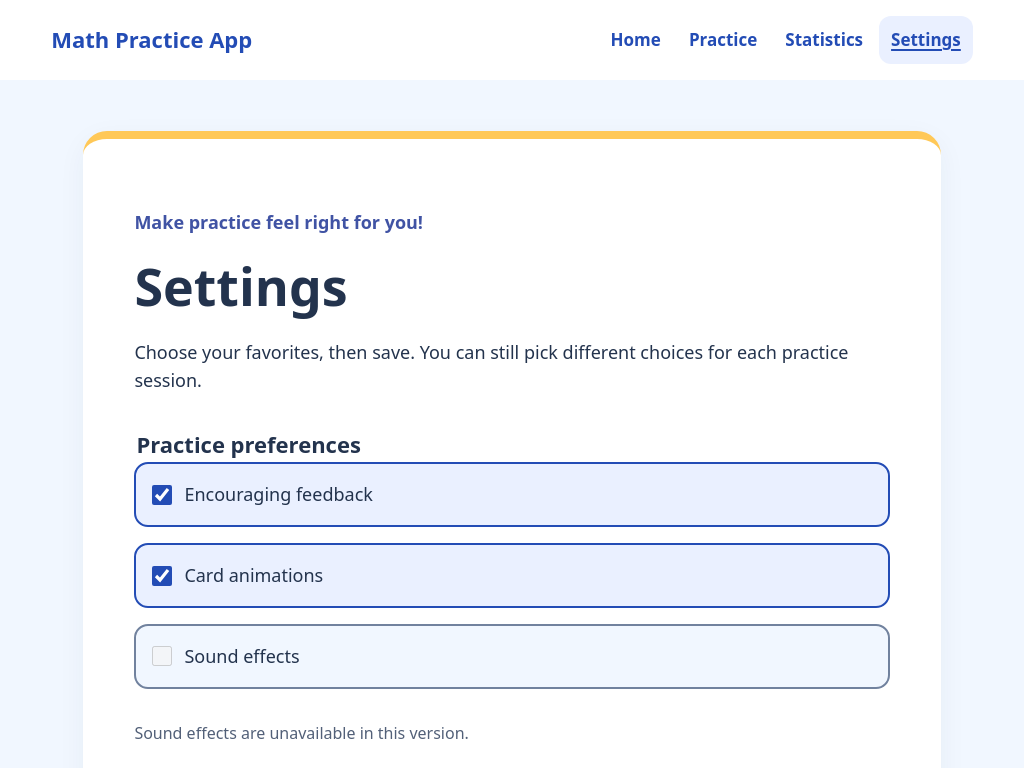
Test: persistent application settings › applies settings in memory and explains when persistence fails
Click the checkbox labelled "Card animations". click: x=162, y=576
box: [152,566,172,586]
(page scrolled)
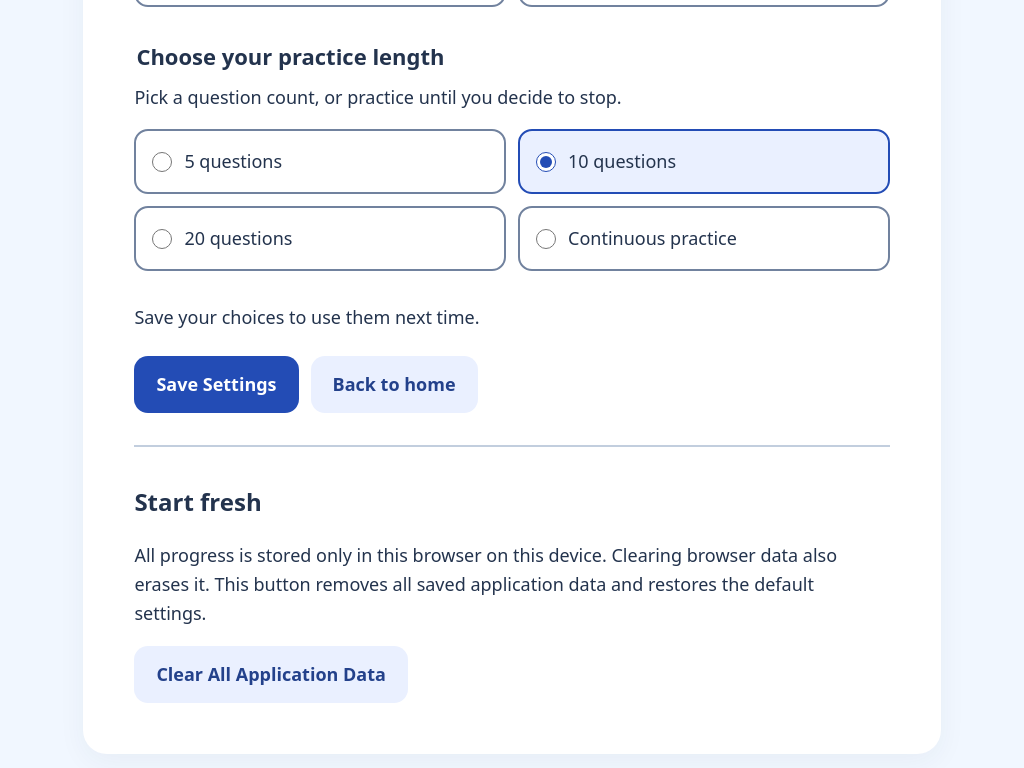
Click the button "Save Settings". click: x=216, y=384
box: [134,356,299,413]
(page scrolled)
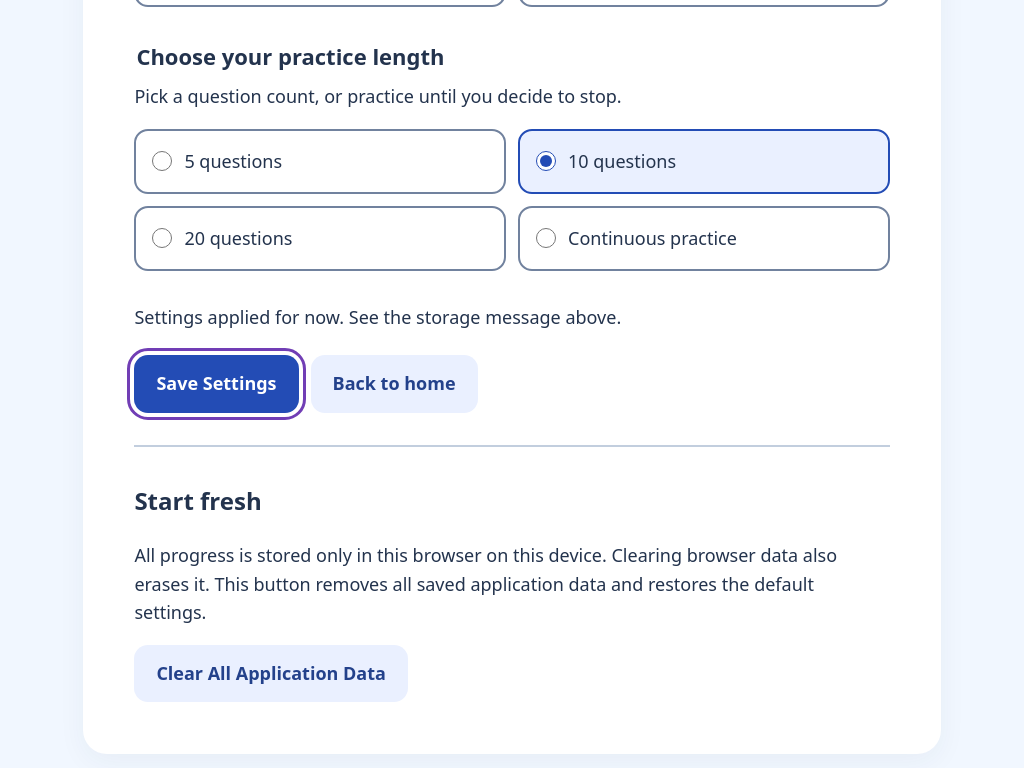
Check: the message shows "applied for now", box [134,305,621,329]
